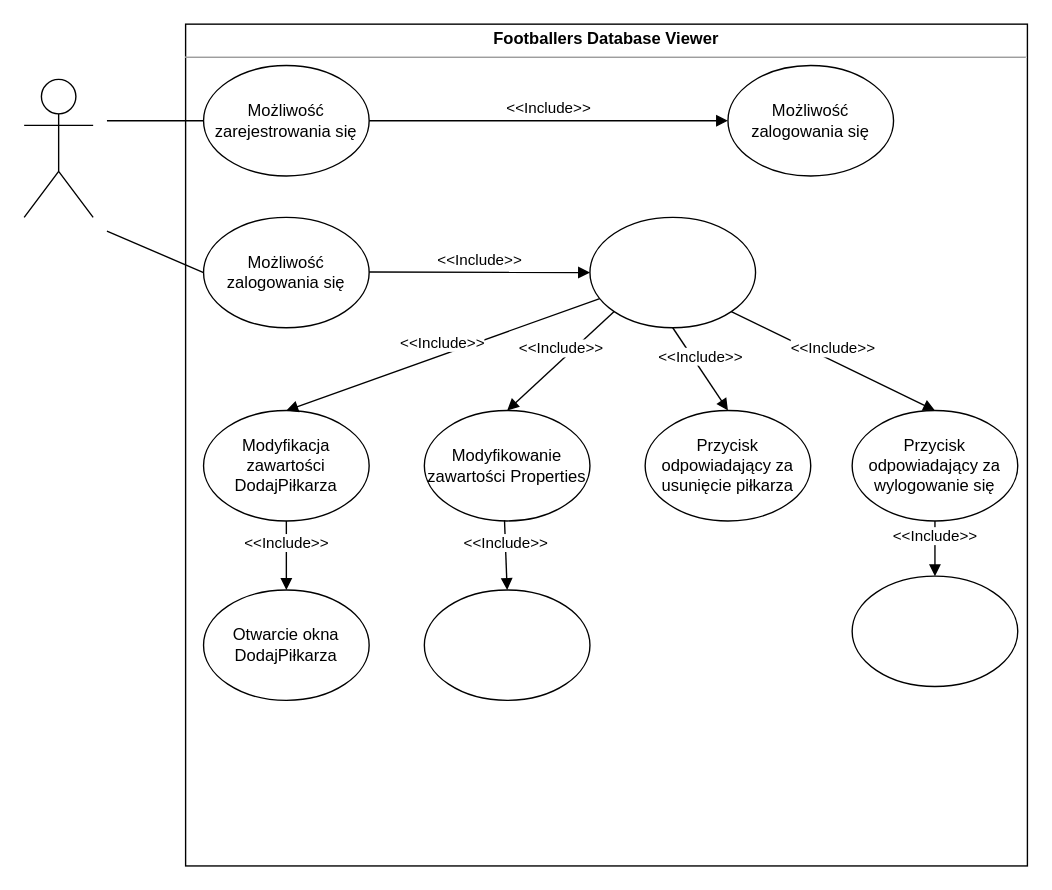
Some shapes in this 1052 by 890 pixel diagram are drawn without their labels. The shapes that lost their labels are listed below. From the top down, each one's centre as x and y in pixels, then its label:
(x=58, y=147): User
(x=672, y=272): Otwarcie okna MainMenu
(x=506, y=644): Otwarcie okna Properties
(x=934, y=631): Powrót do okna logowania
